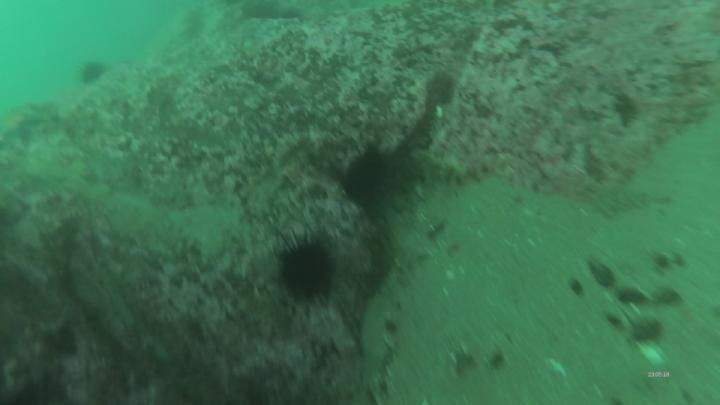echinus: (279, 236, 339, 306), (340, 139, 389, 210), (80, 60, 108, 91)
